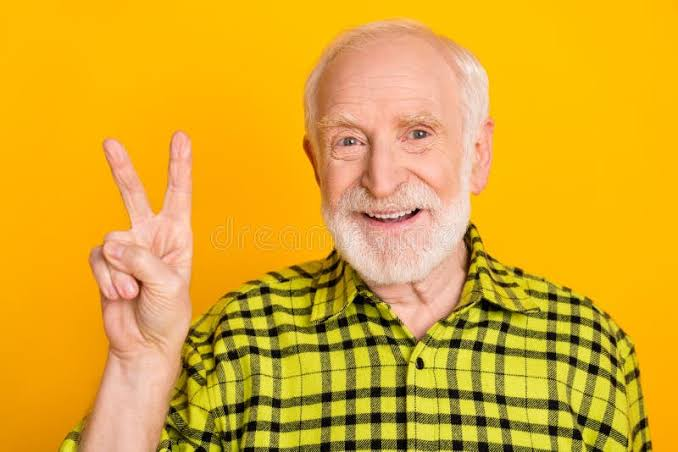peace_sign: (85, 122, 205, 354)
